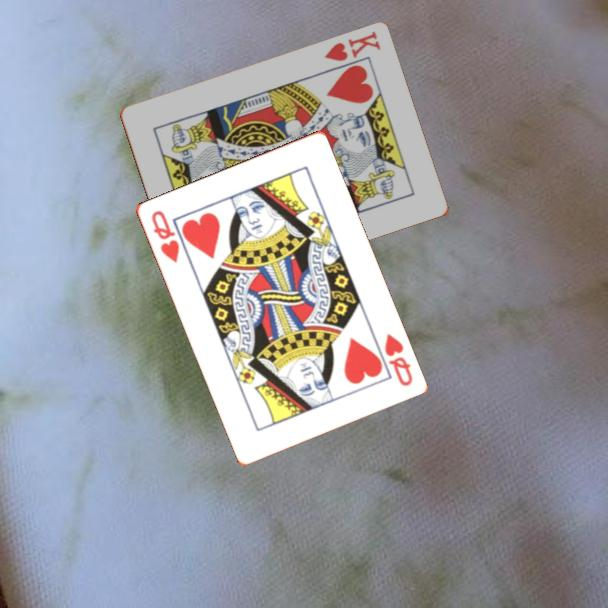h12: (147, 207, 182, 266), (380, 330, 415, 389)
h13: (321, 28, 383, 65)
